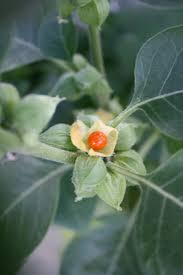healthy_leaf: (17, 9, 161, 214)
